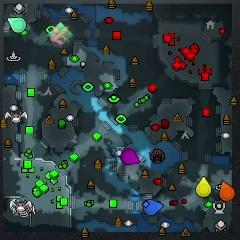p1: (143, 199, 163, 216)
p2: (7, 17, 27, 32)
p3: (122, 149, 140, 165)
p4: (195, 176, 212, 197)
p5: (220, 181, 235, 201)
x1: (49, 29, 64, 44)
